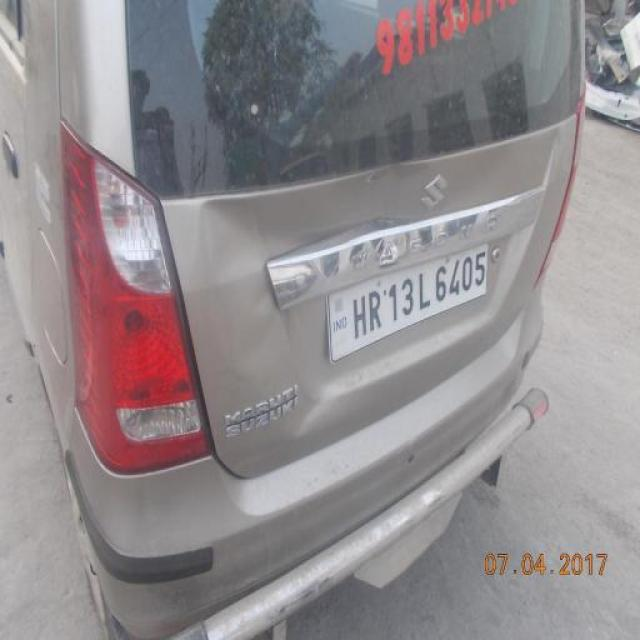dent: (198, 200, 279, 289), (224, 278, 288, 379), (280, 392, 329, 441)
